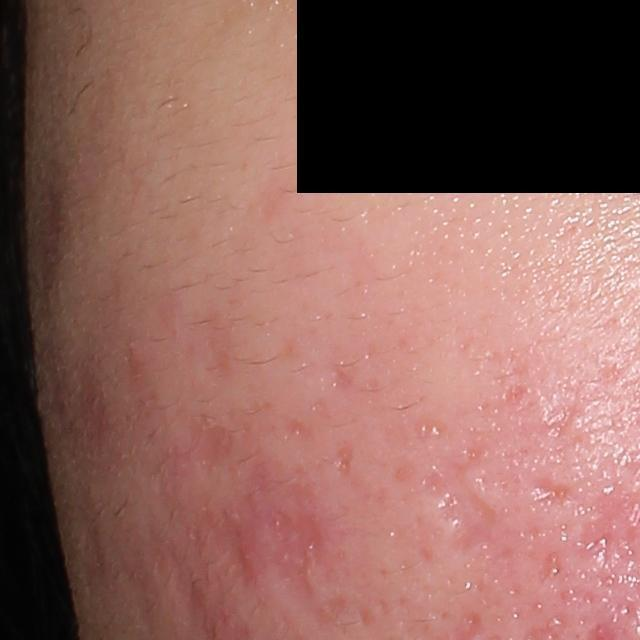atrophic_scar: (229, 428, 341, 631), (416, 433, 518, 573), (525, 356, 634, 460), (519, 472, 585, 509), (330, 438, 354, 478)
